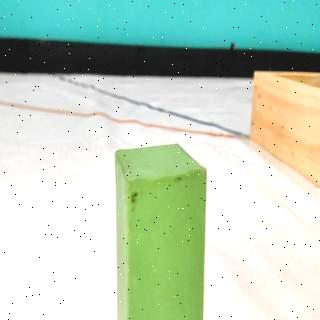greenbox: (113, 141, 208, 320)
